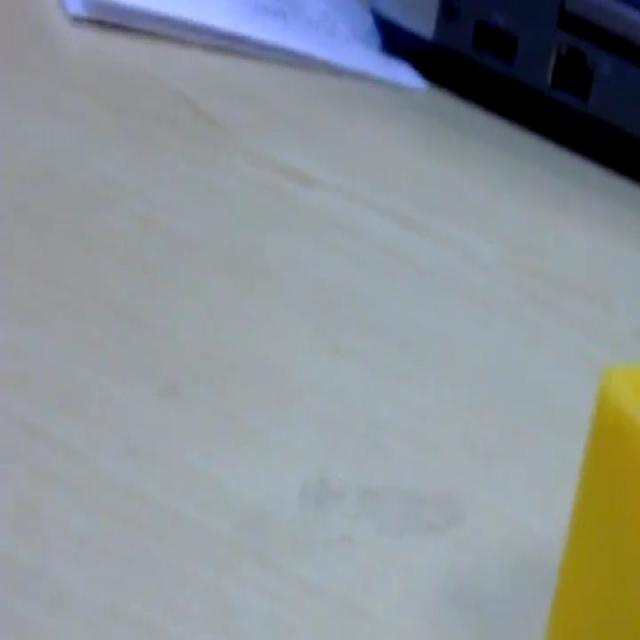yellow_block: (544, 361, 638, 636)
